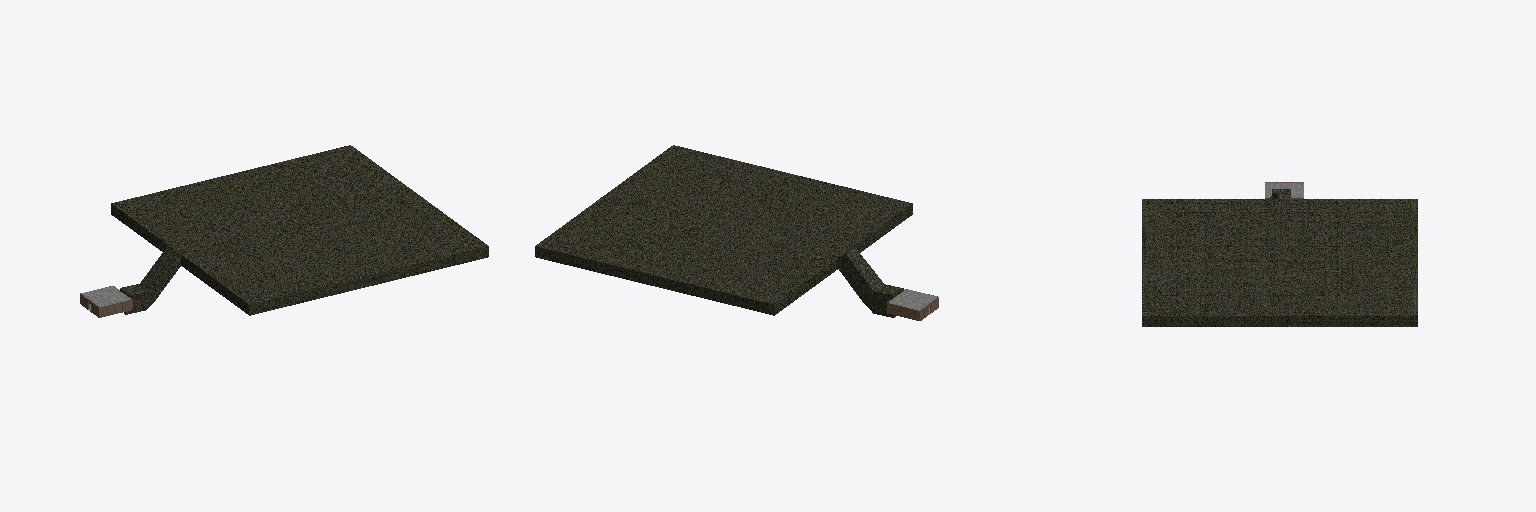
3 views of the same model, side by side, from view 1: azimuth 30°, elevation 25°; view 2: azimuth 150°, elevation 25°; view 3: azimuth 270°, elevation 25° (orthographic).
Parts seen in each view (by area): view 1: Plane.002, Plane, Cube.001, Plane.005, Plane.004; view 2: Plane.002, Plane, Cube, Plane.005, Plane.004; view 3: Plane.002, Plane.
Boxes of the visible parts, x1=… form: Plane.002: x1=119, y1=148, x2=479, y2=300; Plane: x1=111, y1=145, x2=488, y2=315; Cube.001: x1=124, y1=249, x2=180, y2=314; Plane.005: x1=81, y1=286, x2=130, y2=306; Plane.004: x1=80, y1=286, x2=132, y2=317; Plane.002: x1=544, y1=148, x2=904, y2=300; Plane: x1=535, y1=145, x2=912, y2=315; Cube: x1=838, y1=250, x2=898, y2=317; Plane.005: x1=889, y1=289, x2=937, y2=310; Plane.004: x1=887, y1=289, x2=938, y2=320; Plane.002: x1=1148, y1=201, x2=1411, y2=316; Plane: x1=1142, y1=194, x2=1417, y2=326.
Bounding box in the file's own units: 103 × 15.99 × 75.
Materials: 6 (6 with a texture image).